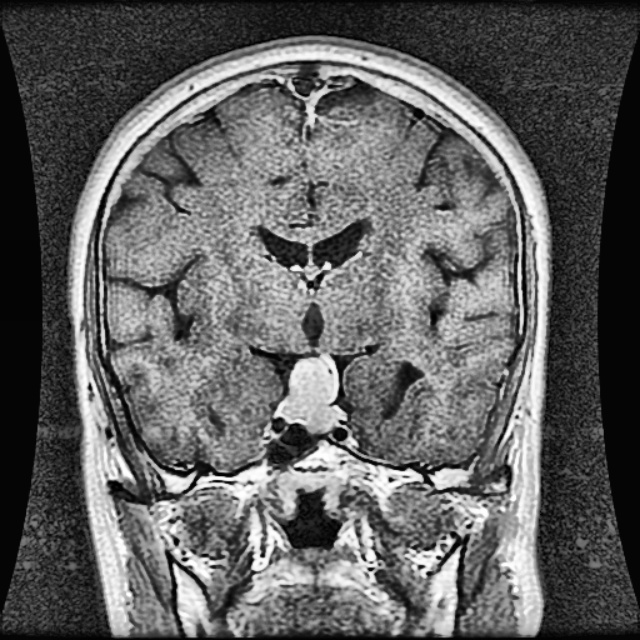Pituitary: (278, 358, 337, 429)
